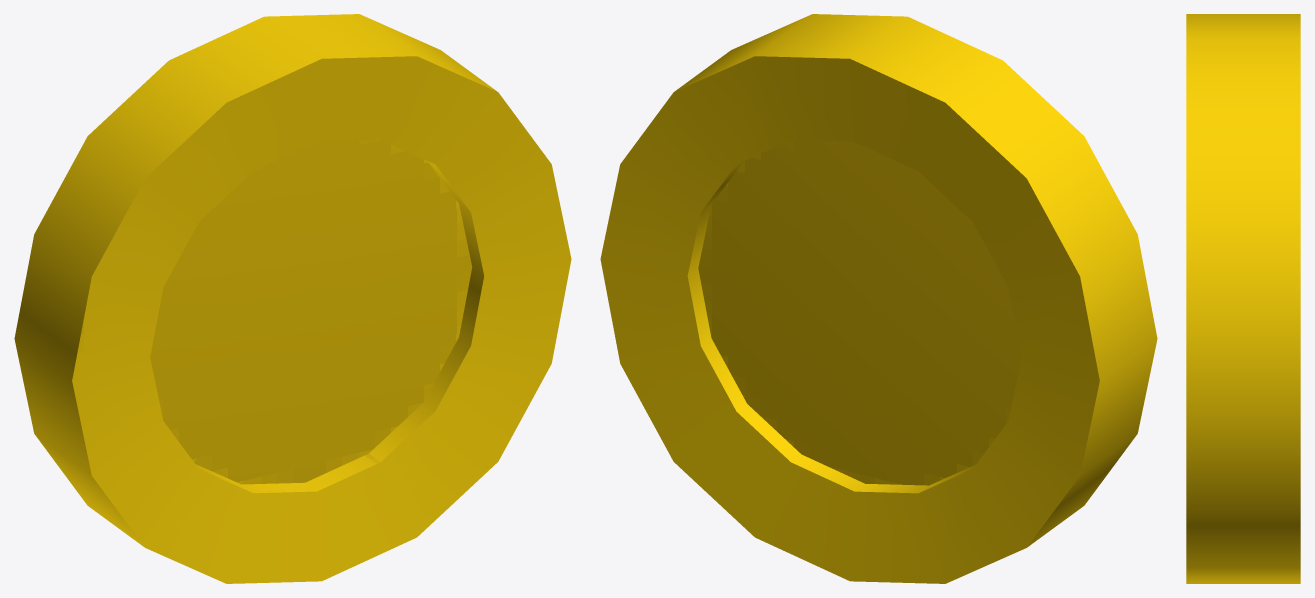
The model's file is coin.fbx.
3 renders of one model, left to right at view 1: azimuth 30°, elevation 25°; view 2: azimuth 150°, elevation 25°; view 3: azimuth 270°, elevation 25°, orthographic.
Parts seen in each view (by area): view 1: coin; view 2: coin; view 3: coin.
Boxes of the visible parts, x1,y1,x2,y2 form: coin: (14, 14, 571, 583); coin: (600, 14, 1157, 583); coin: (1186, 14, 1300, 583).
Bounding box in the file's own units: 0.1996 × 0.0399 × 0.1996.
